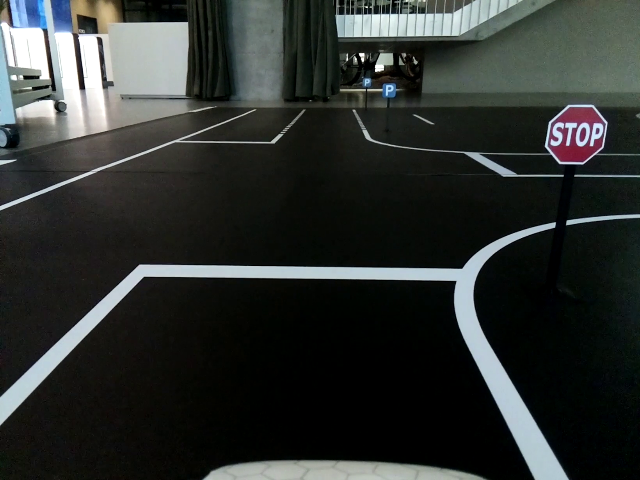stop: (542, 101, 607, 166)
